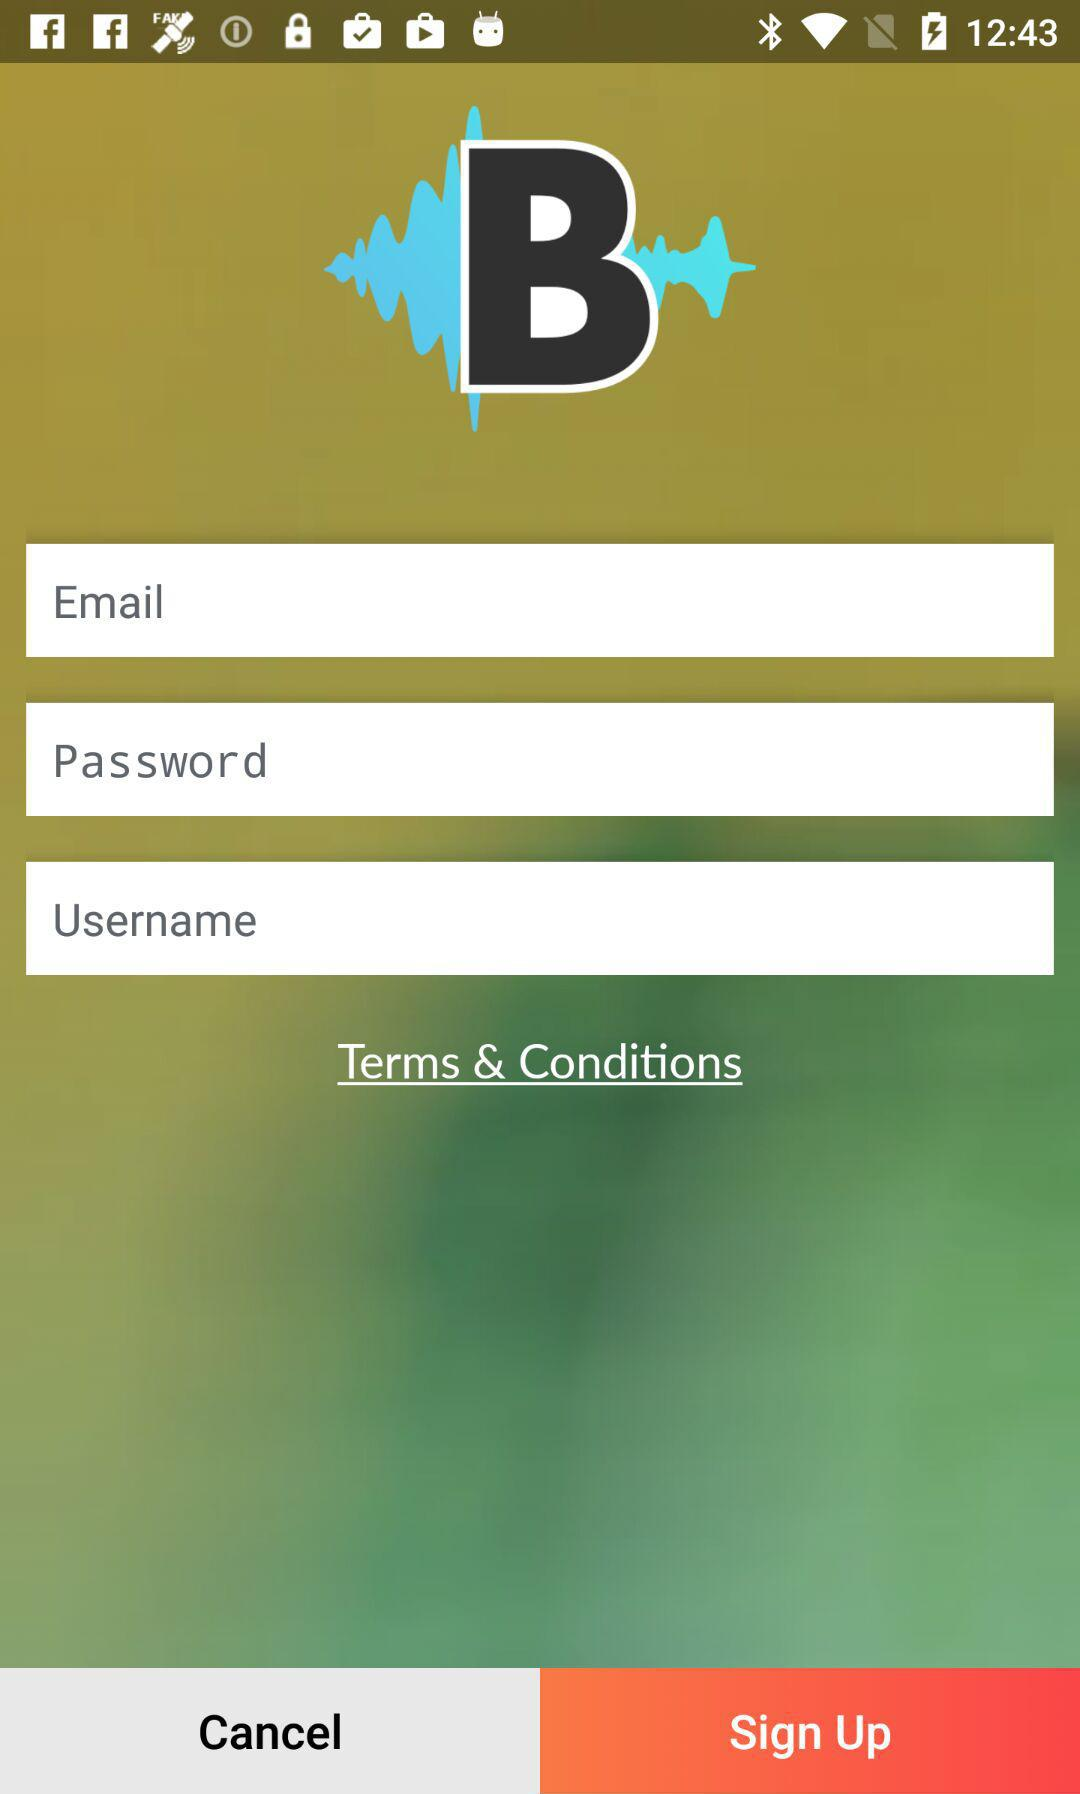EditText: (27, 704, 1054, 818), (27, 862, 1054, 976), (27, 545, 1054, 657)
Image: (322, 105, 758, 434)
Text: (336, 1041, 744, 1087), (56, 743, 266, 779), (56, 903, 258, 938), (56, 584, 163, 620)
TextButton: (1, 1668, 541, 1794), (541, 1668, 1080, 1794)
UpperTaskBar: (1, 1, 1080, 64)
